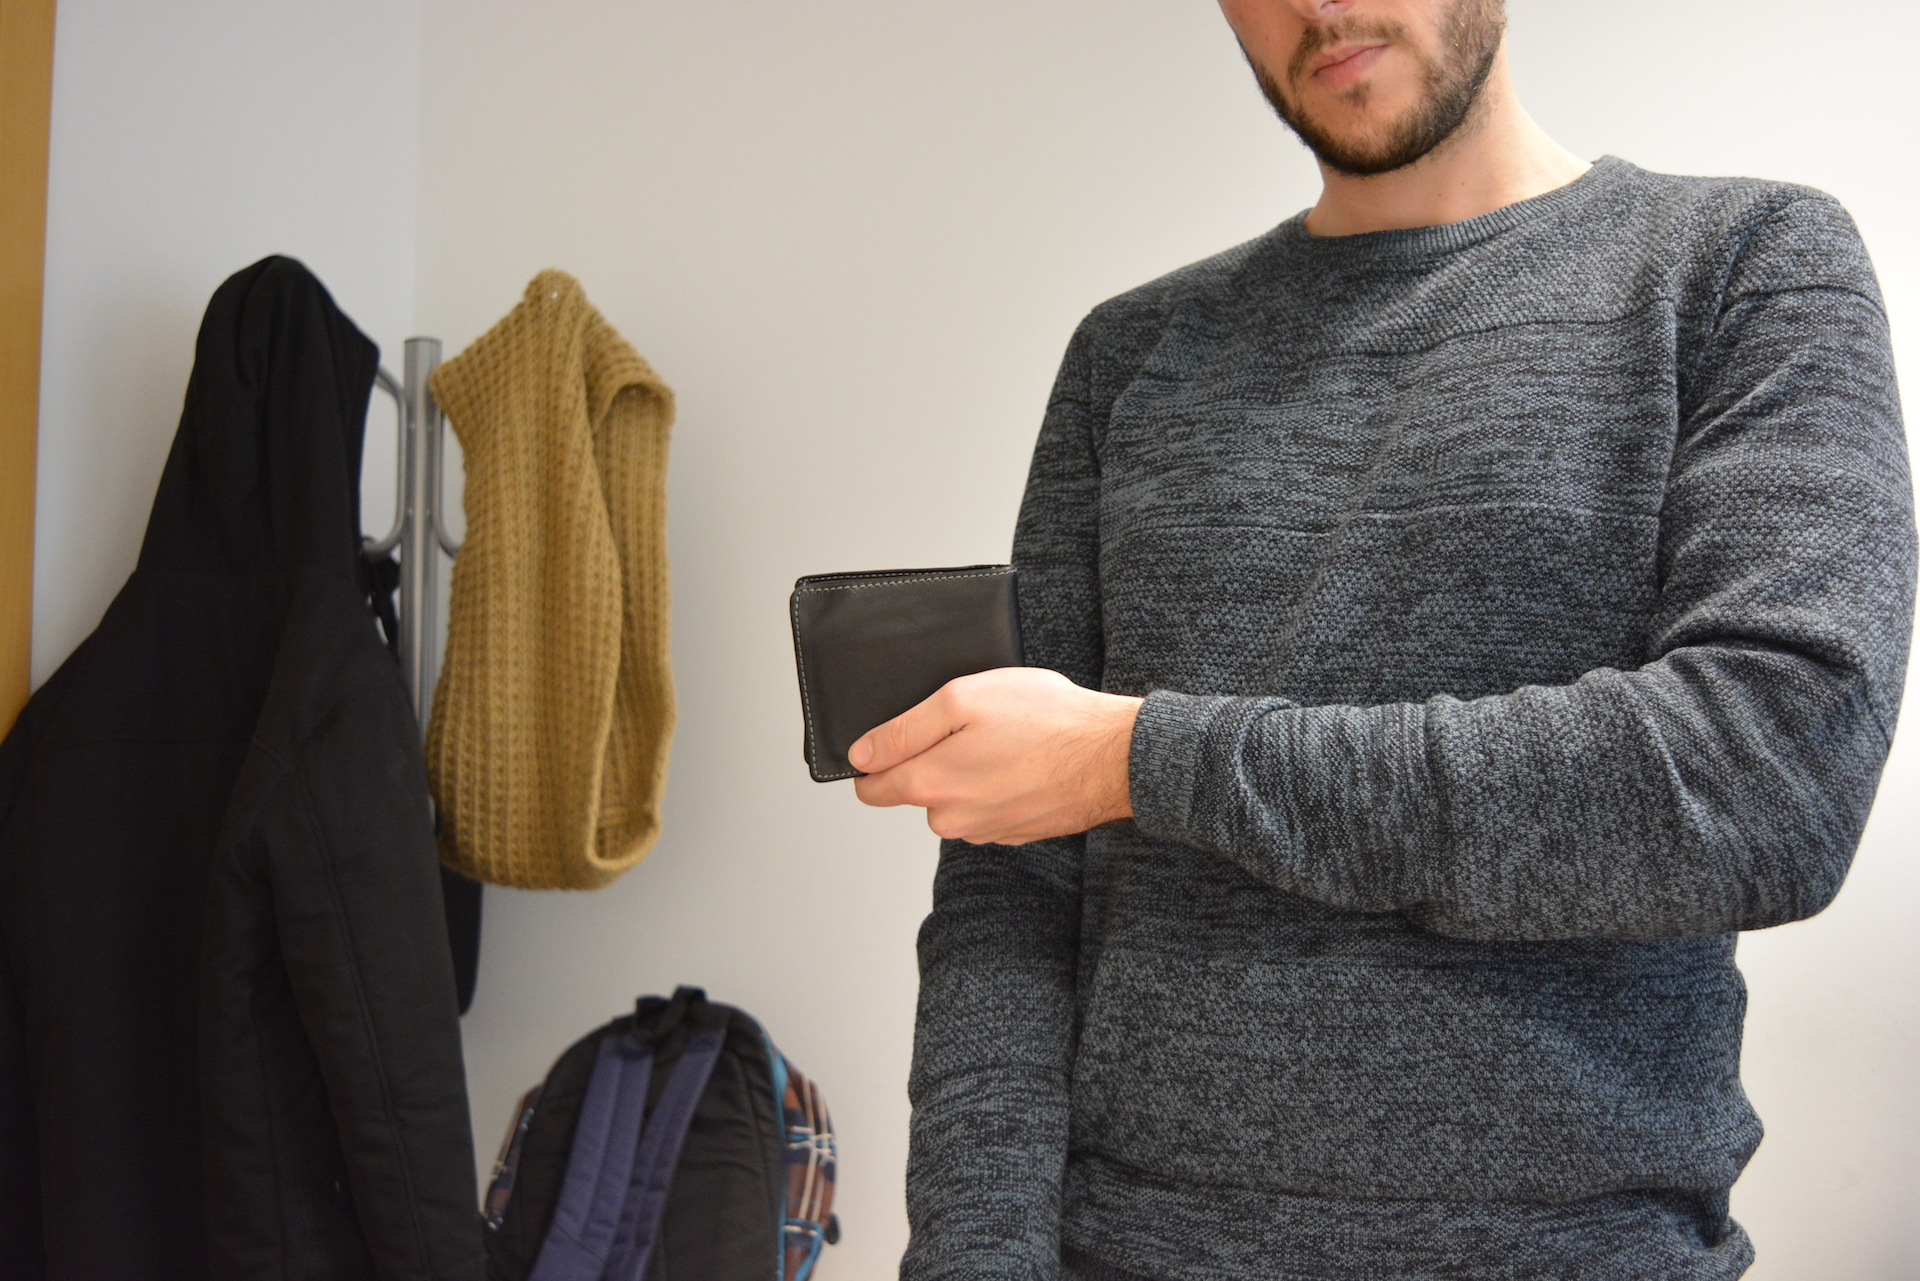monedero: (788, 563, 1028, 783)
